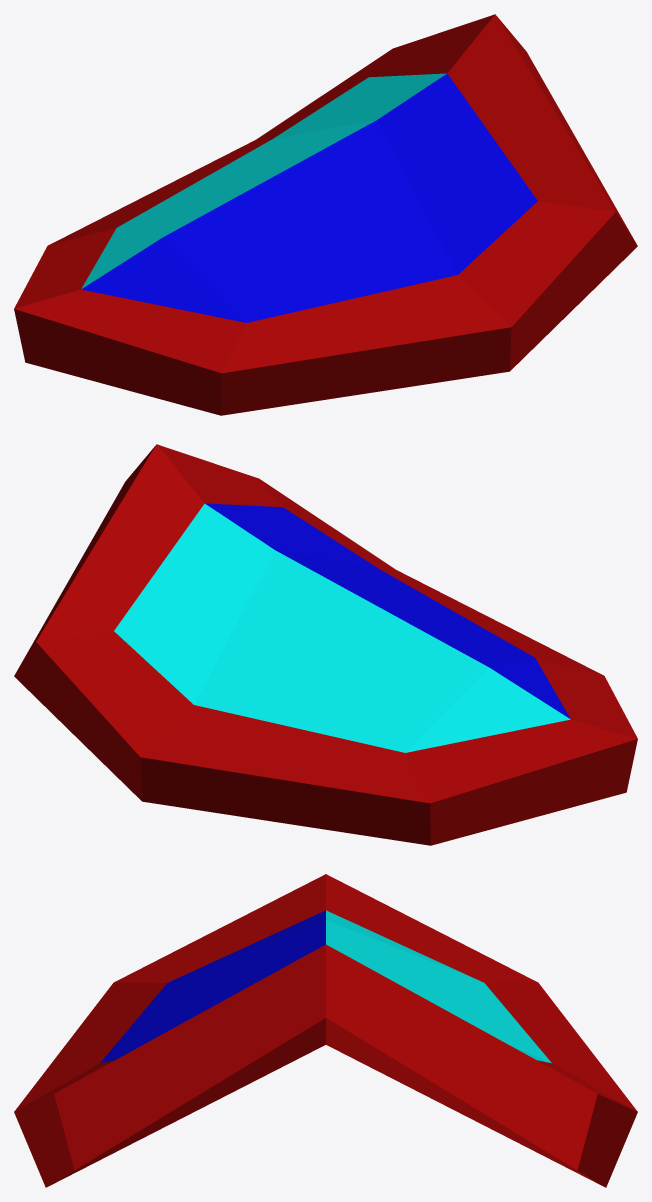
Rendered from Chr_ShoulderAttachRight_Static_17.fbx.
3 renders of one model, top to bottom at view 1: azimuth 30°, elevation 25°; view 2: azimuth 150°, elevation 25°; view 3: azimuth 270°, elevation 25°, orthographic. The views are drawn at different scales.
Parts seen in each view (by area): view 1: Chr_ShoulderAttachRight_17; view 2: Chr_ShoulderAttachRight_17; view 3: Chr_ShoulderAttachRight_17.
Boxes of the visible parts, x1,y1,x2,y2 form: Chr_ShoulderAttachRight_17: [14, 14, 637, 415]; Chr_ShoulderAttachRight_17: [14, 444, 637, 845]; Chr_ShoulderAttachRight_17: [14, 874, 637, 1187].
Bounding box in the file's own units: 24.15 × 11.58 × 20.56.
